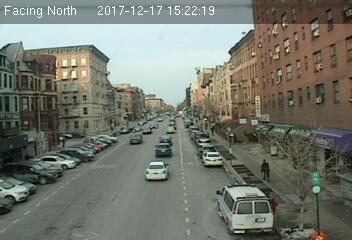car: (144, 160, 169, 183), (202, 151, 224, 168), (153, 143, 173, 159)
police: (216, 180, 277, 234)
